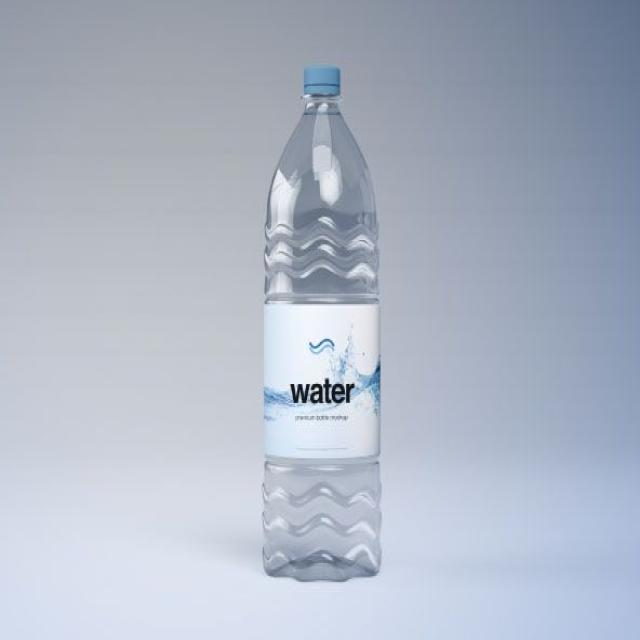bottle: (262, 64, 386, 586)
